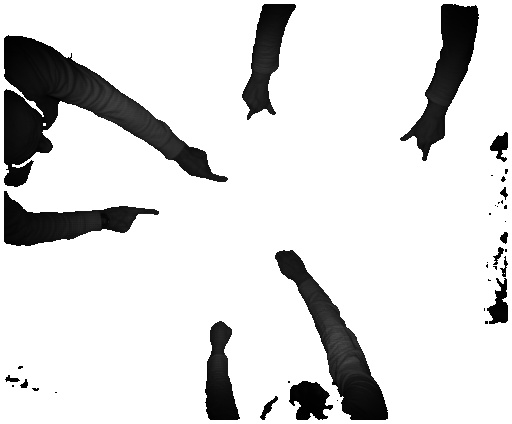fist: (208, 320, 231, 352)
hand: (400, 114, 447, 167), (106, 200, 159, 239), (180, 147, 231, 183), (243, 82, 279, 119), (272, 248, 308, 280)
